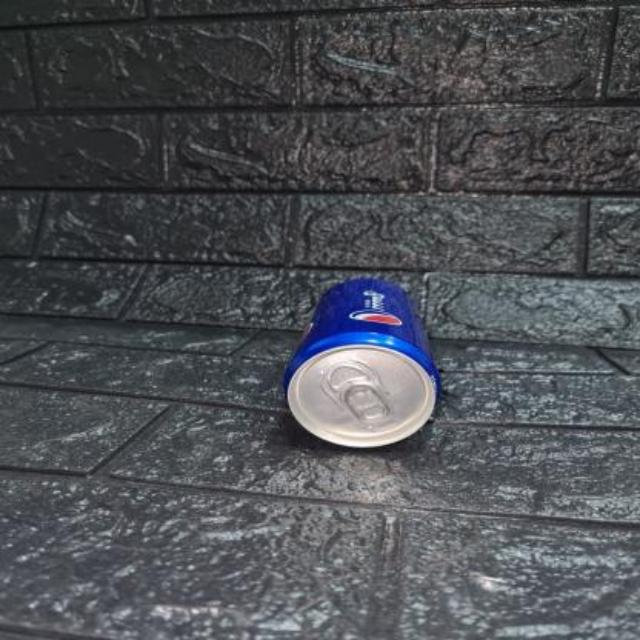metal: (282, 275, 437, 445)
